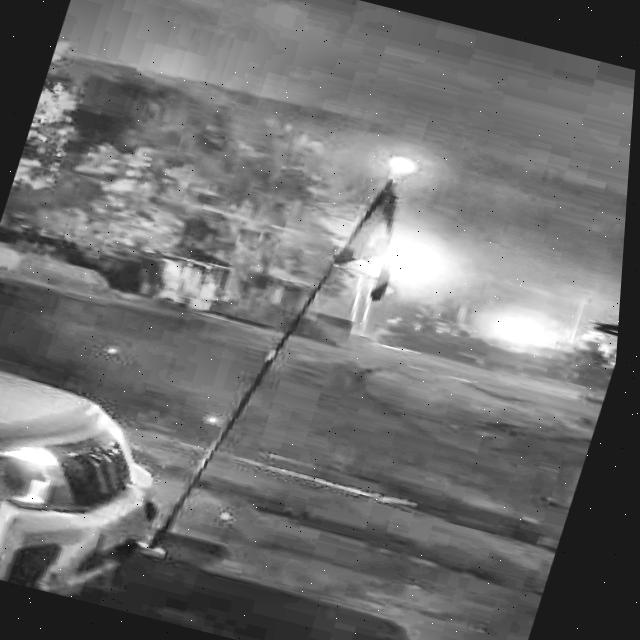light_vehicle: (0, 251, 232, 612)
